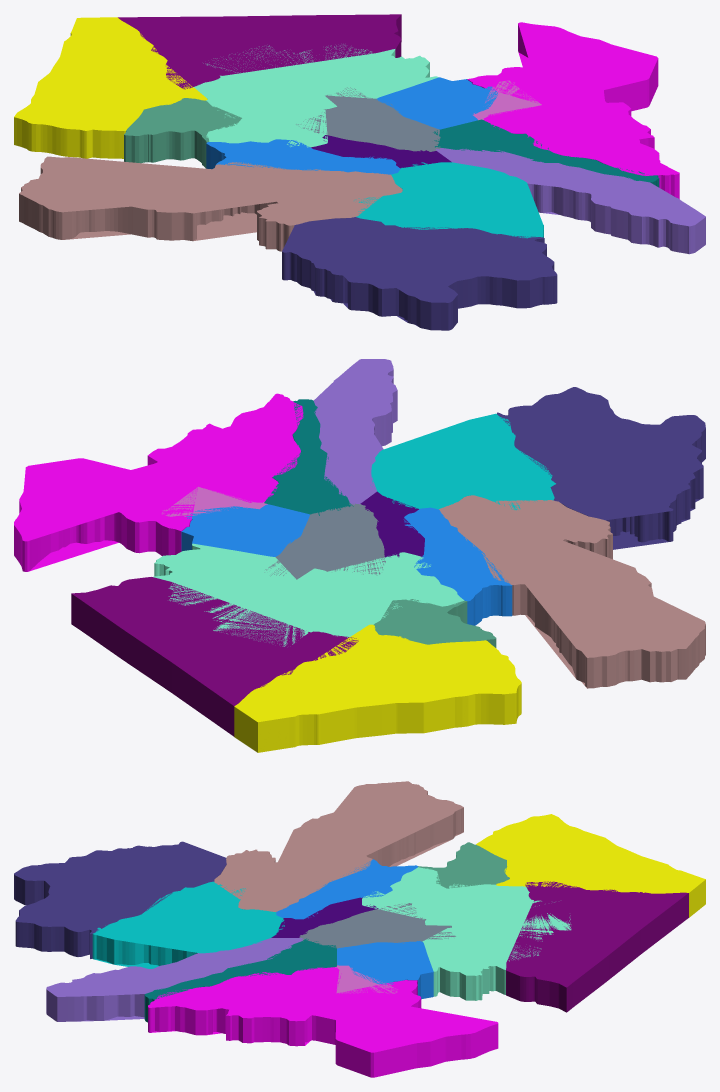
The model's file is petoooooo.fbx.
3 views of the same model, one above another, from view 1: azimuth 30°, elevation 25°; view 2: azimuth 150°, elevation 25°; view 3: azimuth 270°, elevation 25° (orthographic). The views are drawn at different scales.
Visible parts, largest first — view 1: Model; view 2: Model; view 3: Model.
Boxes of the visible parts, x1=… form: Model: x1=14, y1=14, x2=705, y2=330; Model: x1=14, y1=359, x2=705, y2=752; Model: x1=14, y1=781, x2=705, y2=1077.
Bounding box in the file's own units: 0.2328 × 0.01 × 0.2508.
